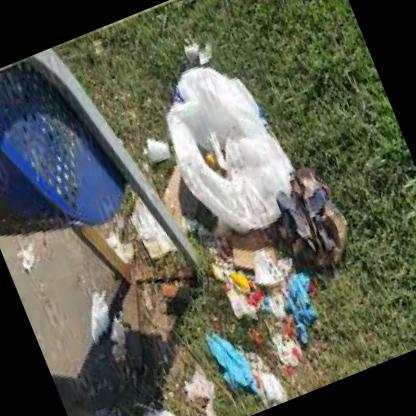Garbage: (207, 224, 325, 372), (264, 163, 355, 278)
